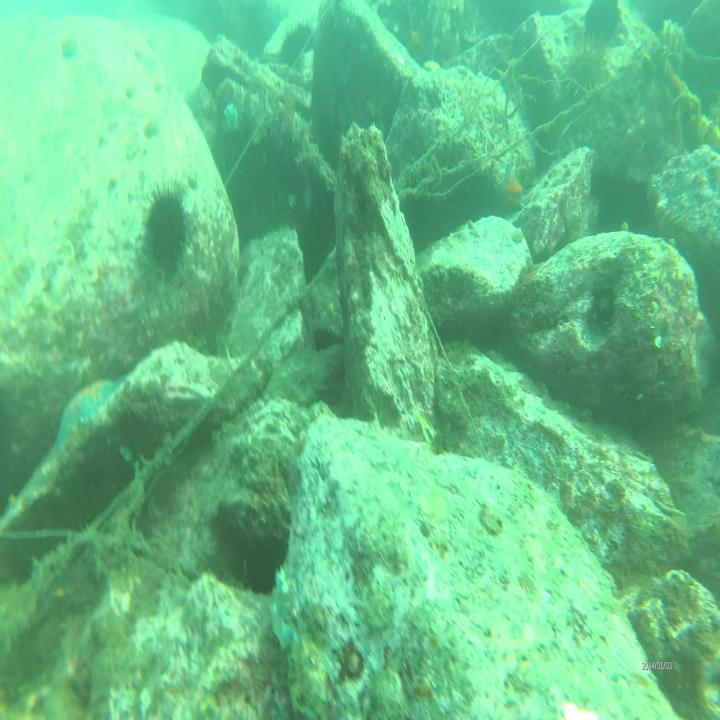echinus: (142, 187, 188, 271), (565, 34, 607, 99), (280, 21, 313, 72)
starfish: (51, 377, 127, 464), (495, 162, 527, 219), (405, 23, 426, 57)
